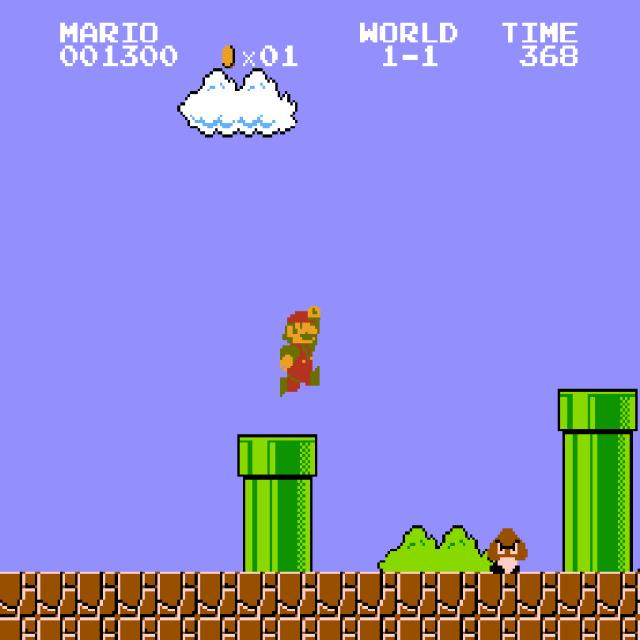big_mario: (277, 303, 320, 397)
goomba: (485, 526, 528, 574)
pipe: (237, 480, 278, 526), (277, 480, 318, 526), (557, 434, 598, 480), (557, 480, 598, 526), (597, 434, 638, 480), (597, 480, 638, 526), (237, 526, 278, 571), (277, 526, 318, 571), (557, 526, 598, 571), (597, 526, 638, 571)
pipe_head: (237, 434, 278, 480), (277, 434, 318, 480), (557, 389, 598, 434), (597, 389, 638, 434)
undestructible_block: (37, 572, 78, 617), (77, 572, 118, 617), (117, 572, 158, 617), (157, 572, 198, 617), (197, 572, 238, 617), (237, 572, 278, 617), (277, 572, 318, 617), (317, 572, 358, 617), (357, 572, 398, 617), (397, 572, 438, 617), (437, 572, 478, 617), (477, 572, 518, 617), (517, 572, 558, 617), (557, 572, 598, 617), (597, 572, 638, 617), (0, 572, 37, 617), (37, 617, 78, 640), (77, 617, 118, 640), (117, 617, 158, 640), (157, 617, 198, 640), (197, 617, 238, 640), (237, 617, 278, 640), (277, 617, 318, 640), (317, 617, 358, 640), (357, 617, 398, 640), (397, 617, 438, 640), (437, 617, 478, 640), (477, 617, 518, 640), (517, 617, 558, 640), (557, 617, 598, 640), (597, 617, 638, 640), (0, 617, 37, 640), (637, 571, 640, 617), (637, 617, 640, 639)
